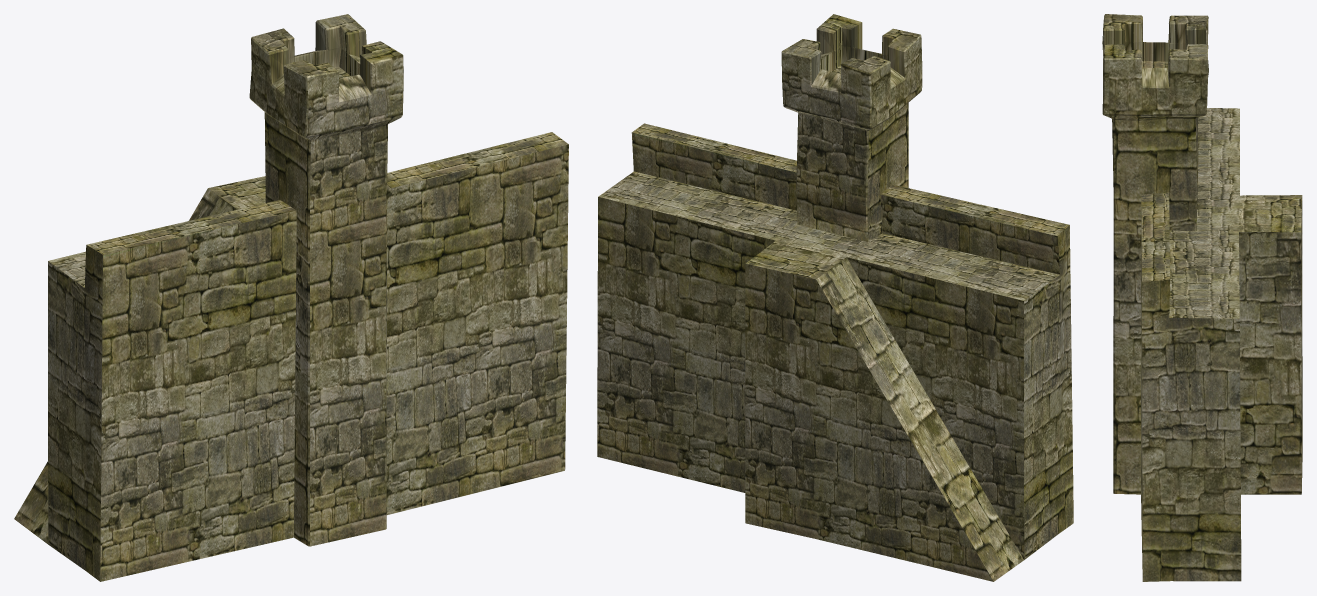
Rendered from Wall_Broken.FBX.
3 renders of one model, left to right at view 1: azimuth 30°, elevation 25°; view 2: azimuth 150°, elevation 25°; view 3: azimuth 270°, elevation 25°, orthographic. The views are drawn at different scales.
Parts seen in each view (by area): view 1: Wall_Debris_2, Wall_Debris_3, Wall_Debris_6 (×2), Wall_Debris_1, Wall_Debris_7, Wall_Debris_5, Wall_Debris_9; view 2: Wall_Debris_3, Wall_Debris_2, Wall_Debris_4, Wall_Debris_5, Wall_Debris_6, Wall_Debris_1, Wall_Debris_7; view 3: Wall_Debris_3, Wall_Debris_2, Wall_Debris_4, Wall_Debris_1, Wall_Debris_5, Wall_Debris_7, Wall_Debris_6.
Boxes of the visible parts, x1=… form: Wall_Debris_2: x1=81, y1=132, x2=568, y2=354; Wall_Debris_3: x1=14, y1=364, x2=566, y2=581; Wall_Debris_6 (×2): x1=48, y1=281, x2=400, y2=556; Wall_Debris_1: x1=249, y1=14, x2=403, y2=207; Wall_Debris_7: x1=401, y1=233, x2=567, y2=364; Wall_Debris_5: x1=48, y1=180, x2=265, y2=304; Wall_Debris_9: x1=387, y1=349, x2=529, y2=364; Wall_Debris_3: x1=597, y1=345, x2=1073, y2=581; Wall_Debris_2: x1=622, y1=123, x2=1070, y2=287; Wall_Debris_4: x1=597, y1=200, x2=880, y2=374; Wall_Debris_5: x1=679, y1=212, x2=1060, y2=344; Wall_Debris_6: x1=881, y1=289, x2=1073, y2=499; Wall_Debris_1: x1=781, y1=14, x2=922, y2=164; Wall_Debris_7: x1=598, y1=180, x2=677, y2=211; Wall_Debris_3: x1=1113, y1=303, x2=1302, y2=581; Wall_Debris_2: x1=1113, y1=117, x2=1229, y2=362; Wall_Debris_4: x1=1142, y1=211, x2=1302, y2=493; Wall_Debris_1: x1=1102, y1=14, x2=1208, y2=184; Wall_Debris_5: x1=1198, y1=108, x2=1302, y2=281; Wall_Debris_7: x1=1141, y1=282, x2=1239, y2=483; Wall_Debris_6: x1=1113, y1=332, x2=1141, y2=380.
Size of the model in its own units: 1211 by 483 by 1178.
Materials: 1 (1 with a texture image).
